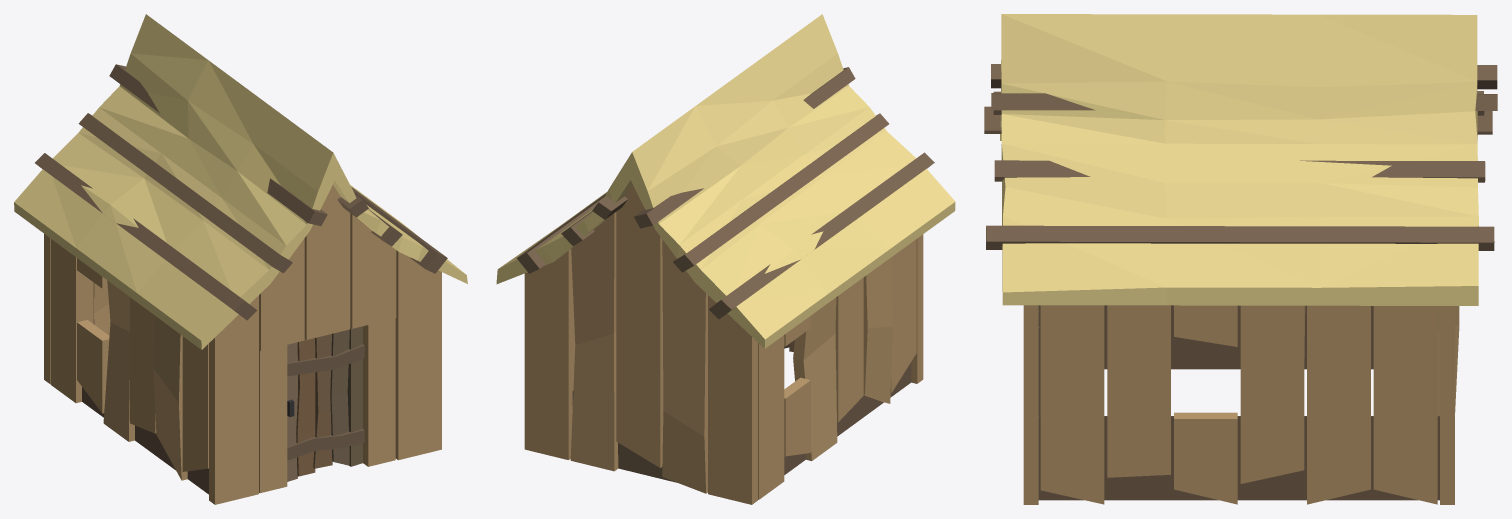
The model's file is Hut_1.fbx.
3 renders of one model, left to right at view 1: azimuth 30°, elevation 25°; view 2: azimuth 150°, elevation 25°; view 3: azimuth 270°, elevation 25°, orthographic. The views are drawn at different scales.
Visible parts, largest first — view 1: Hut_1; view 2: Hut_1; view 3: Hut_1.
Part boxes in pixels (x1,y1,x2,y2): Hut_1: [14, 14, 467, 504]; Hut_1: [496, 14, 955, 504]; Hut_1: [984, 14, 1497, 504].
Size of the model in its own units: 258 by 305 by 339.
Materials: 1 (1 with a texture image).
